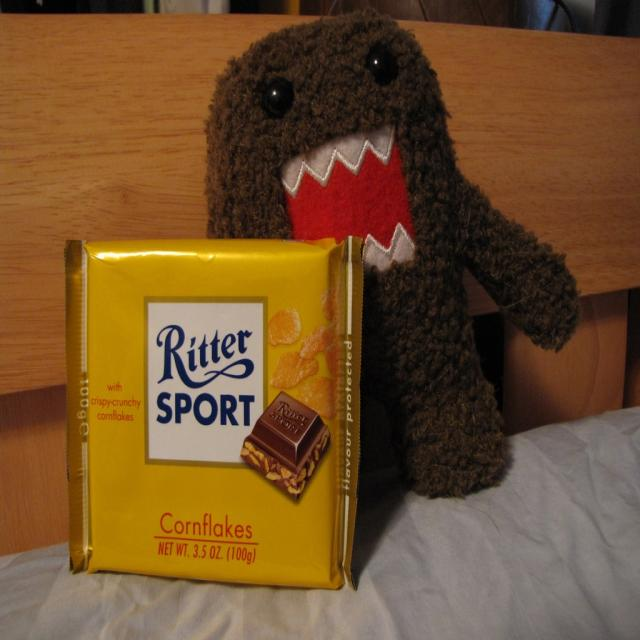rittersport: (144, 296, 269, 469)
